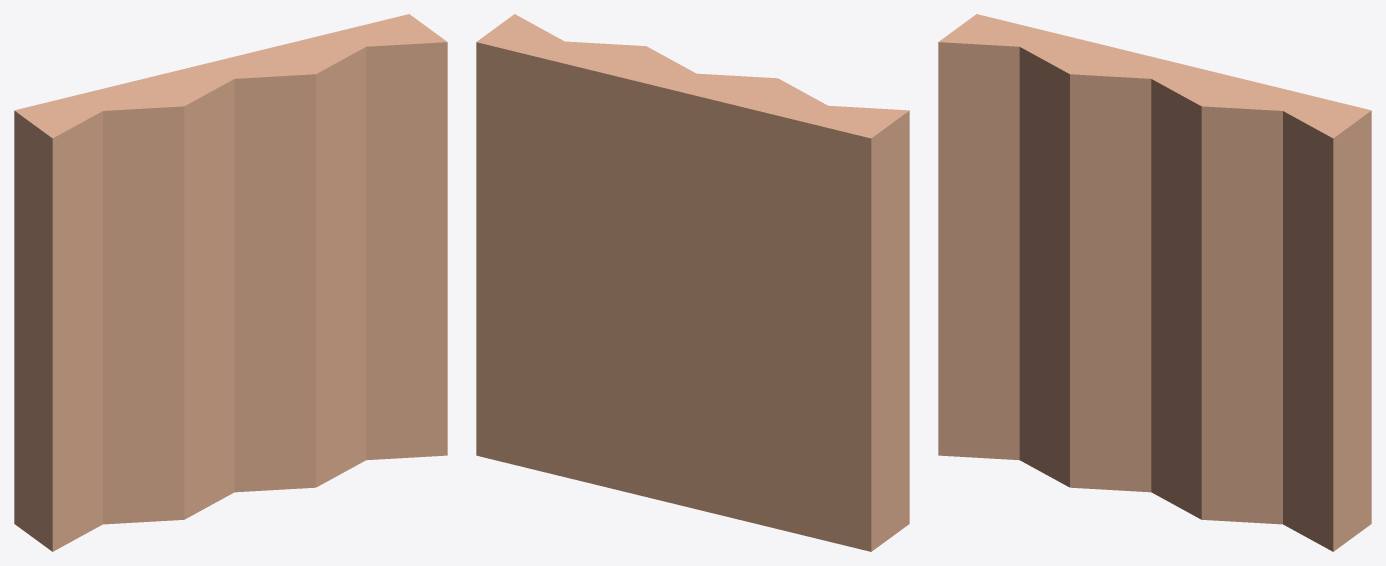
Rendered from cliff_rock.gltf.
3 renders of one model, left to right at view 1: azimuth 30°, elevation 25°; view 2: azimuth 150°, elevation 25°; view 3: azimuth 330°, elevation 25°, orthographic.
Parts seen in each view (by area): view 1: cliff_rock; view 2: cliff_rock; view 3: cliff_rock.
Boxes of the visible parts, x1,y1,x2,y2 form: cliff_rock: [14, 14, 447, 551]; cliff_rock: [476, 14, 909, 551]; cliff_rock: [938, 14, 1371, 551].
Size of the model in its own units: 1 by 1 by 0.1685.
